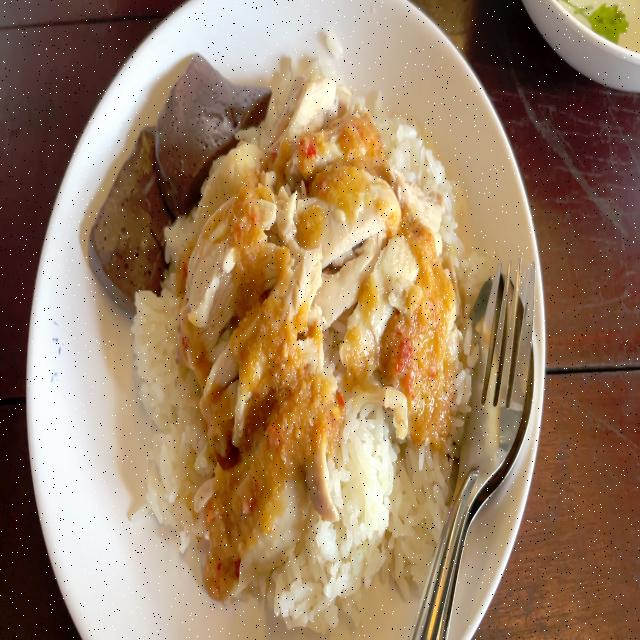boiled_chicken: (207, 121, 426, 467)
boiled_chicken_blood_jelly: (151, 44, 253, 186), (84, 129, 169, 292)
chicken_rice: (82, 40, 495, 637)
